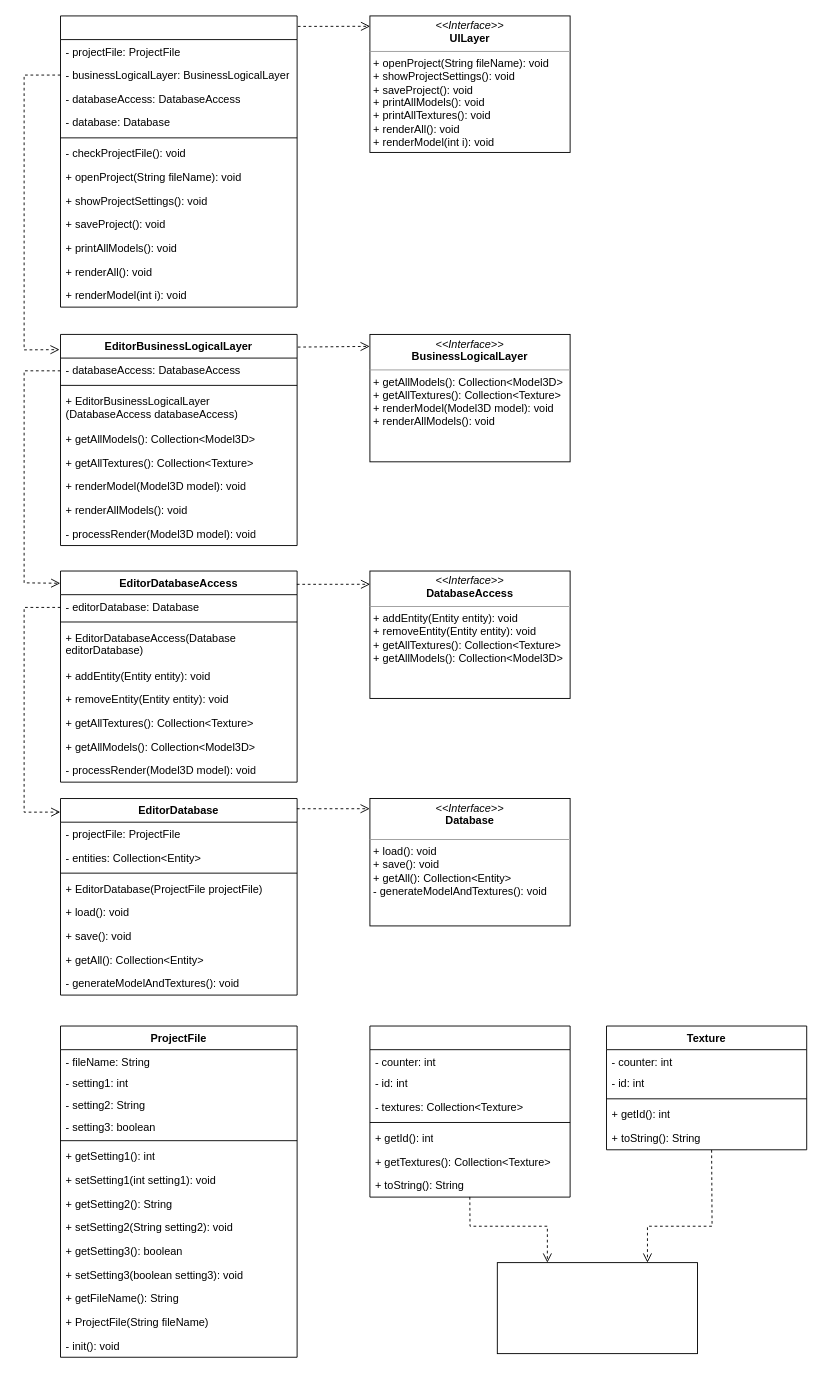
The diagram is 823 pixels wide and 1376 high, and some of its shapes have lost their labels. Each missing label, with the box of its shape:
<<Interface>> Entity + getId(): int: (496, 1262, 698, 1354)
Editor3D: (60, 15, 297, 307)
Model3D: (369, 1025, 570, 1197)
